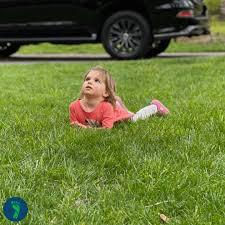child: (59, 66, 178, 132)
